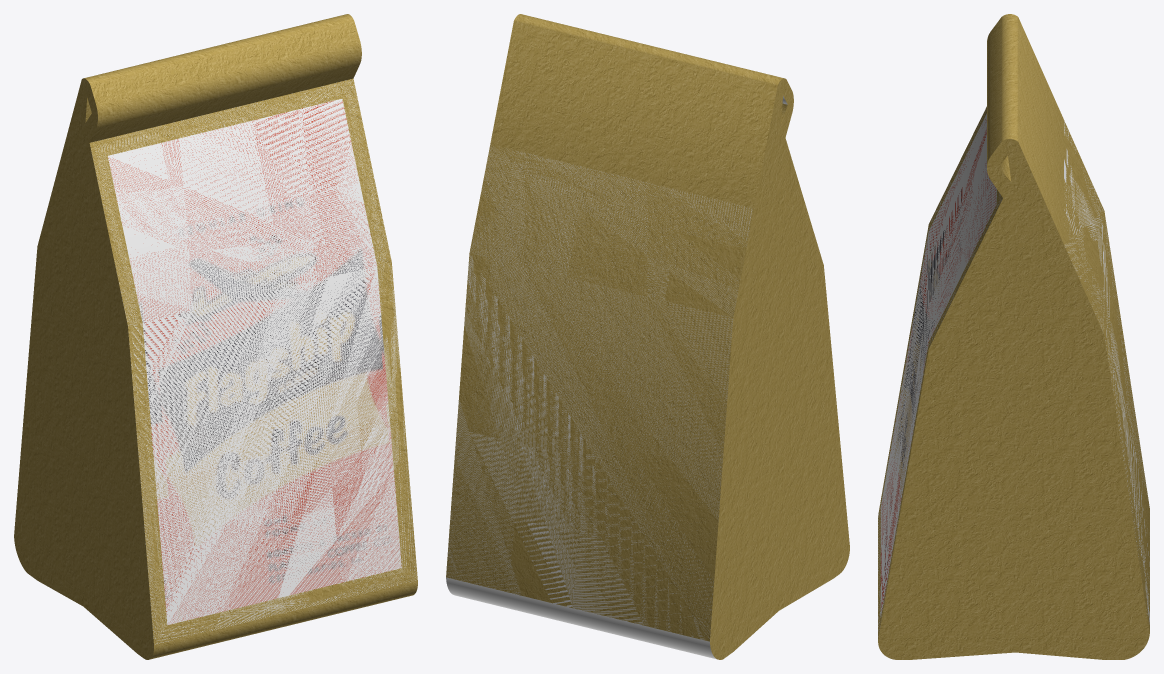
Rendered from coffee.dae.
The picture shows the model from 3 angles, left to right: view 1: azimuth 30°, elevation 25°; view 2: azimuth 150°, elevation 25°; view 3: azimuth 270°, elevation 25°; orthographic projection. The views are drawn at different scales.
Visible parts, largest first — view 1: Component_29 (×2); view 2: Component_29 (×2); view 3: Component_29 (×2).
Boxes of the visible parts, left/top/right/bottom form: Component_29 (×2): left=14, top=14, right=417, bottom=659; Component_29 (×2): left=446, top=14, right=849, bottom=659; Component_29 (×2): left=878, top=14, right=1149, bottom=659.
Bounding box in the file's own units: 7.09 × 6.52 × 13.78.
Materials: 3 (2 with a texture image).
